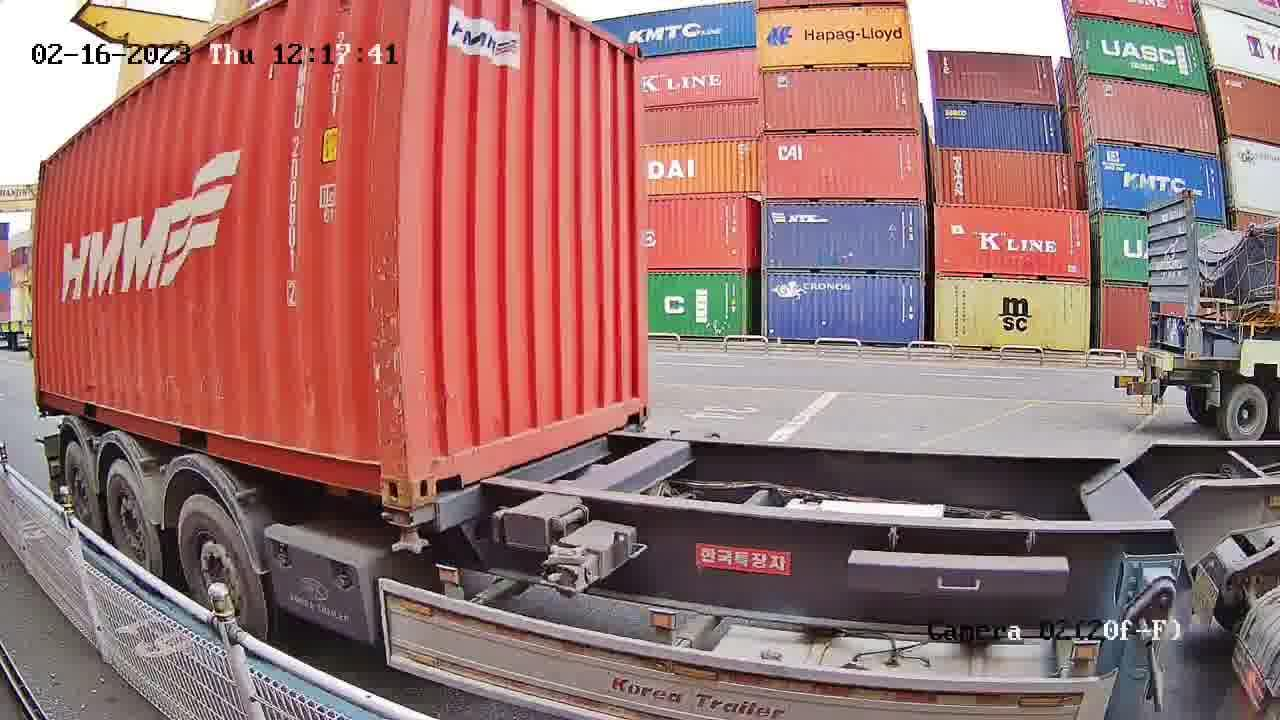Chassis: (386, 422, 644, 535)
Cone: (384, 503, 433, 556)
Hole_L: (410, 437, 462, 508)
Hole_R: (355, 437, 410, 511), (622, 386, 651, 427)
Tire: (178, 497, 263, 631), (108, 462, 162, 576), (67, 445, 97, 521)
